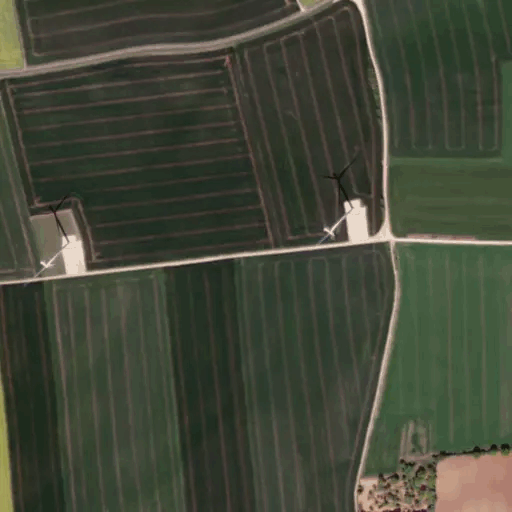wt: (28, 191, 85, 290), (320, 152, 373, 248)
